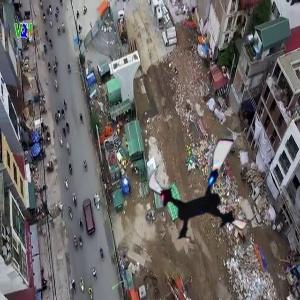drone: (145, 133, 265, 253)
